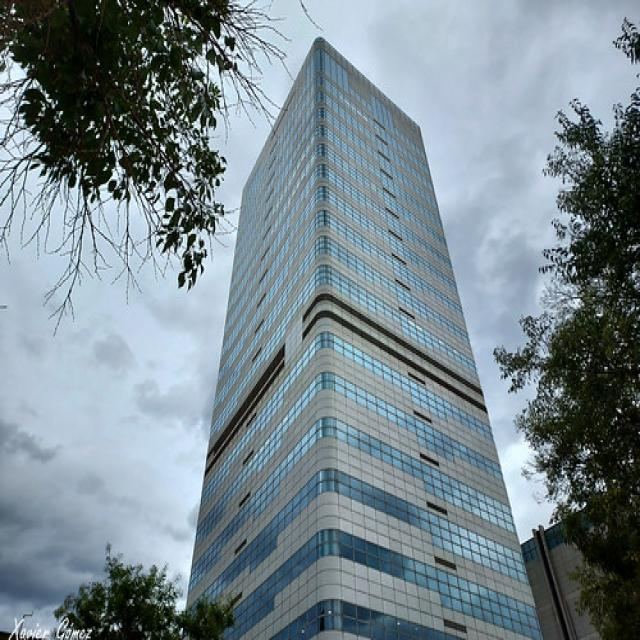Normal_building: (172, 32, 546, 639)
